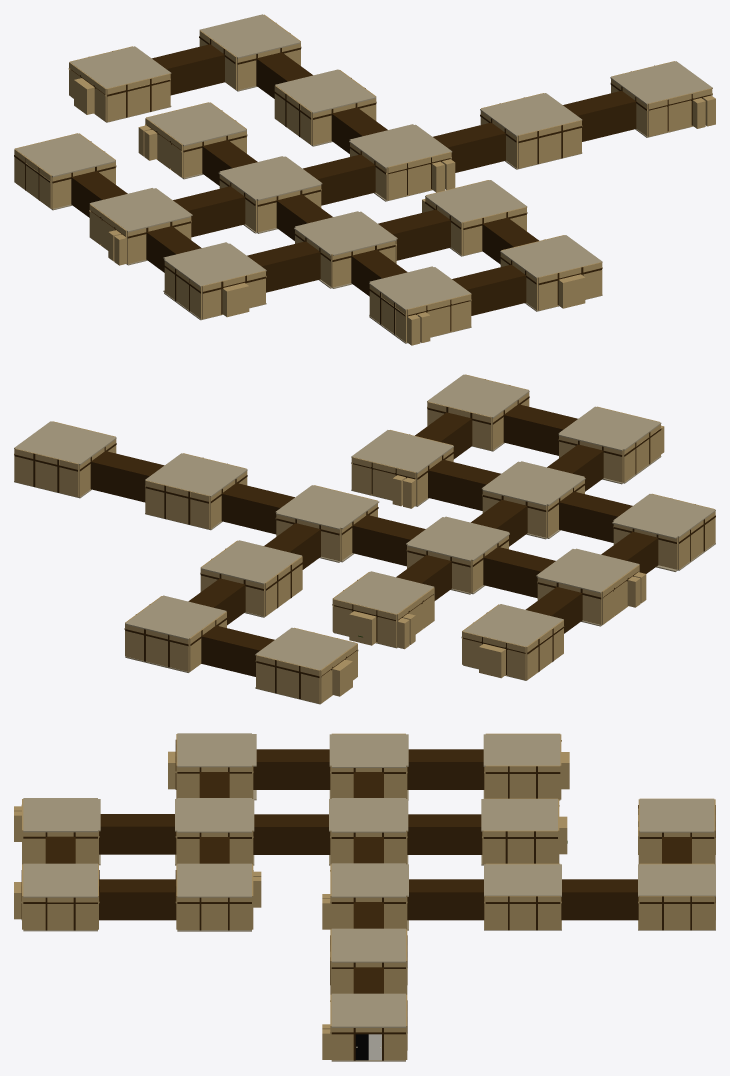
Rendered from Stage02.fbx.
The picture shows the model from 3 angles, top to bottom: view 1: azimuth 30°, elevation 25°; view 2: azimuth 150°, elevation 25°; view 3: azimuth 270°, elevation 25°; orthographic projection. The views are drawn at different scales.
Visible parts, largest first — view 1: stage, Box275, Box213, Box337, Box338, Box340, Box339, Box346, Box241, Box344, Box348, Box350 (+40 smaller); view 2: stage, Box275, Box213, Box338, Box337, Box340, Box346, Box344, Box339, Box348, Box350, Box343 (+38 smaller); view 3: stage, Box241, Box265, Box257, Box220, Box215, Box210, Box337, Box338, Box340, Box344, Box346 (+27 smaller).
Part boxes in pixels (x1=…): stage: x1=127, y1=122, x2=505, y2=296; Box275: x1=152, y1=30, x2=236, y2=95; Box213: x1=173, y1=175, x2=256, y2=237; Box337: x1=218, y1=156, x2=322, y2=200; Box338: x1=294, y1=211, x2=397, y2=255; Box340: x1=163, y1=242, x2=266, y2=287; Box339: x1=89, y1=188, x2=192, y2=232; Box346: x1=349, y1=124, x2=452, y2=168; Box241: x1=463, y1=207, x2=539, y2=264; Box344: x1=369, y1=266, x2=471, y2=310; Box348: x1=275, y1=69, x2=376, y2=113; Box350: x1=200, y1=14, x2=300, y2=58; stage: x1=222, y1=444, x2=658, y2=573; Box275: x1=189, y1=611, x2=274, y2=676; Box213: x1=471, y1=535, x2=555, y2=598; Box338: x1=481, y1=461, x2=585, y2=506; Box337: x1=406, y1=516, x2=509, y2=561; Box340: x1=612, y1=494, x2=715, y2=538; Box346: x1=275, y1=485, x2=379, y2=529; Box344: x1=558, y1=406, x2=661, y2=450; Box339: x1=536, y1=548, x2=639, y2=593; Box348: x1=201, y1=540, x2=301, y2=584; Box350: x1=125, y1=595, x2=226, y2=639; Box343: x1=351, y1=430, x2=453, y2=473; stage: x1=99, y1=749, x2=383, y2=1060; Box241: x1=99, y1=864, x2=177, y2=929; Box265: x1=560, y1=879, x2=637, y2=929; Box257: x1=406, y1=879, x2=483, y2=929; Box220: x1=406, y1=749, x2=483, y2=798; Box215: x1=252, y1=814, x2=329, y2=864; Box210: x1=406, y1=814, x2=482, y2=864; Box337: x1=329, y1=798, x2=408, y2=832; Box338: x1=175, y1=798, x2=254, y2=832; Box340: x1=177, y1=733, x2=256, y2=767; Box344: x1=23, y1=798, x2=100, y2=832; Box346: x1=331, y1=863, x2=408, y2=897.
Size of the model in its own units: 2224 by 122 by 2225.
